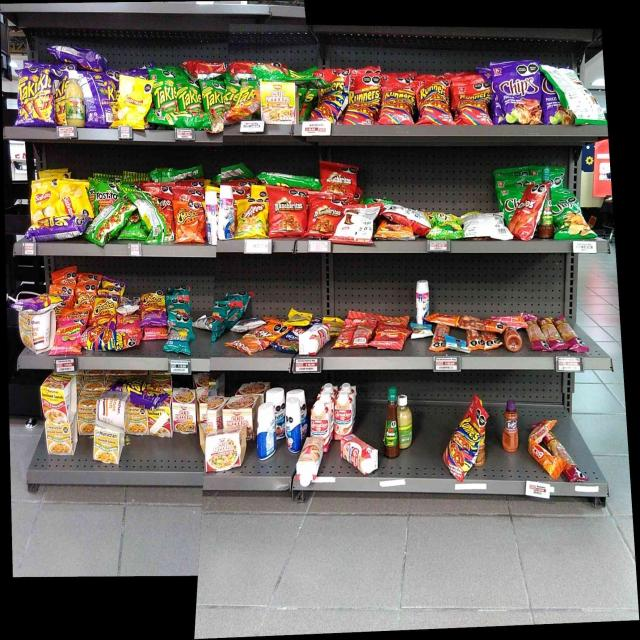bitzAlmendras: (412, 321, 430, 340)
bitzEnchilado90: (377, 323, 406, 352)
bitzEnchilado95: (525, 443, 564, 483), (432, 314, 493, 330)
bitzHabanero: (529, 316, 589, 350)
cheetosFlaminHot: (14, 292, 61, 311), (141, 294, 167, 328), (95, 295, 117, 323)
cheetosOriginal: (173, 200, 204, 242), (76, 282, 93, 310)
chipsFuego: (502, 62, 540, 125), (543, 88, 566, 125)
chipsJalapeno: (555, 194, 583, 240)
chipsPapatinas: (430, 212, 461, 238)
churrumais: (57, 318, 84, 355)
delPrimoSalsa: (64, 69, 86, 126), (399, 393, 413, 450)
doritosNacho: (515, 189, 540, 238)
fritosLimon: (238, 199, 266, 239)
hotNutsOriginal: (376, 226, 415, 241)
leoMix: (226, 331, 270, 355)
maruchanPollo: (18, 315, 49, 353), (46, 420, 75, 459), (95, 428, 123, 466), (128, 410, 147, 434)
maruchanRes: (41, 376, 77, 418), (149, 411, 171, 438)
nestleCarnation: (340, 436, 380, 478), (303, 440, 325, 487), (336, 390, 354, 434), (299, 328, 328, 354), (310, 402, 330, 436)
nestleLechera: (258, 403, 276, 461), (218, 184, 235, 238), (286, 401, 302, 451), (206, 192, 217, 245), (415, 278, 429, 318)
nissinCamaron: (261, 83, 296, 123)
nissinRes: (206, 427, 244, 473), (173, 389, 196, 433)
productoAtras: (47, 43, 108, 68), (572, 76, 602, 124), (343, 204, 373, 244), (88, 74, 110, 124), (465, 212, 503, 240), (154, 114, 209, 131), (92, 211, 121, 243), (140, 202, 161, 246), (344, 317, 369, 347), (183, 60, 225, 77), (389, 205, 426, 223)
rancheritos: (270, 189, 304, 237), (321, 158, 358, 191), (310, 195, 338, 237)
runners: (446, 409, 481, 479), (414, 80, 452, 124), (382, 80, 412, 124), (456, 84, 488, 125), (88, 326, 134, 354), (352, 76, 378, 125), (317, 89, 343, 120)
sabritasOriginal: (117, 76, 149, 126), (55, 192, 90, 215), (31, 180, 54, 208)
salsaBufalo: (384, 386, 398, 457), (543, 199, 553, 238)
semillasGirasol: (170, 324, 191, 356)
tajinDulce: (500, 397, 520, 451)
takisFuego: (26, 219, 85, 240), (35, 70, 54, 125), (125, 383, 164, 407), (16, 69, 31, 124)
takisOriginal: (153, 69, 174, 110), (177, 80, 200, 111), (203, 81, 223, 111)
tostitos: (94, 180, 117, 202)
